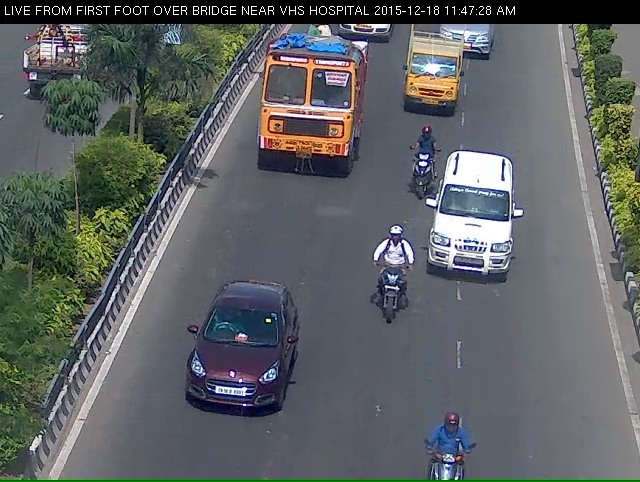Bus: (252, 39, 363, 188)
Car: (164, 305, 291, 457), (438, 163, 517, 309), (359, 247, 411, 361), (403, 39, 465, 122)
Person: (398, 136, 434, 220)
